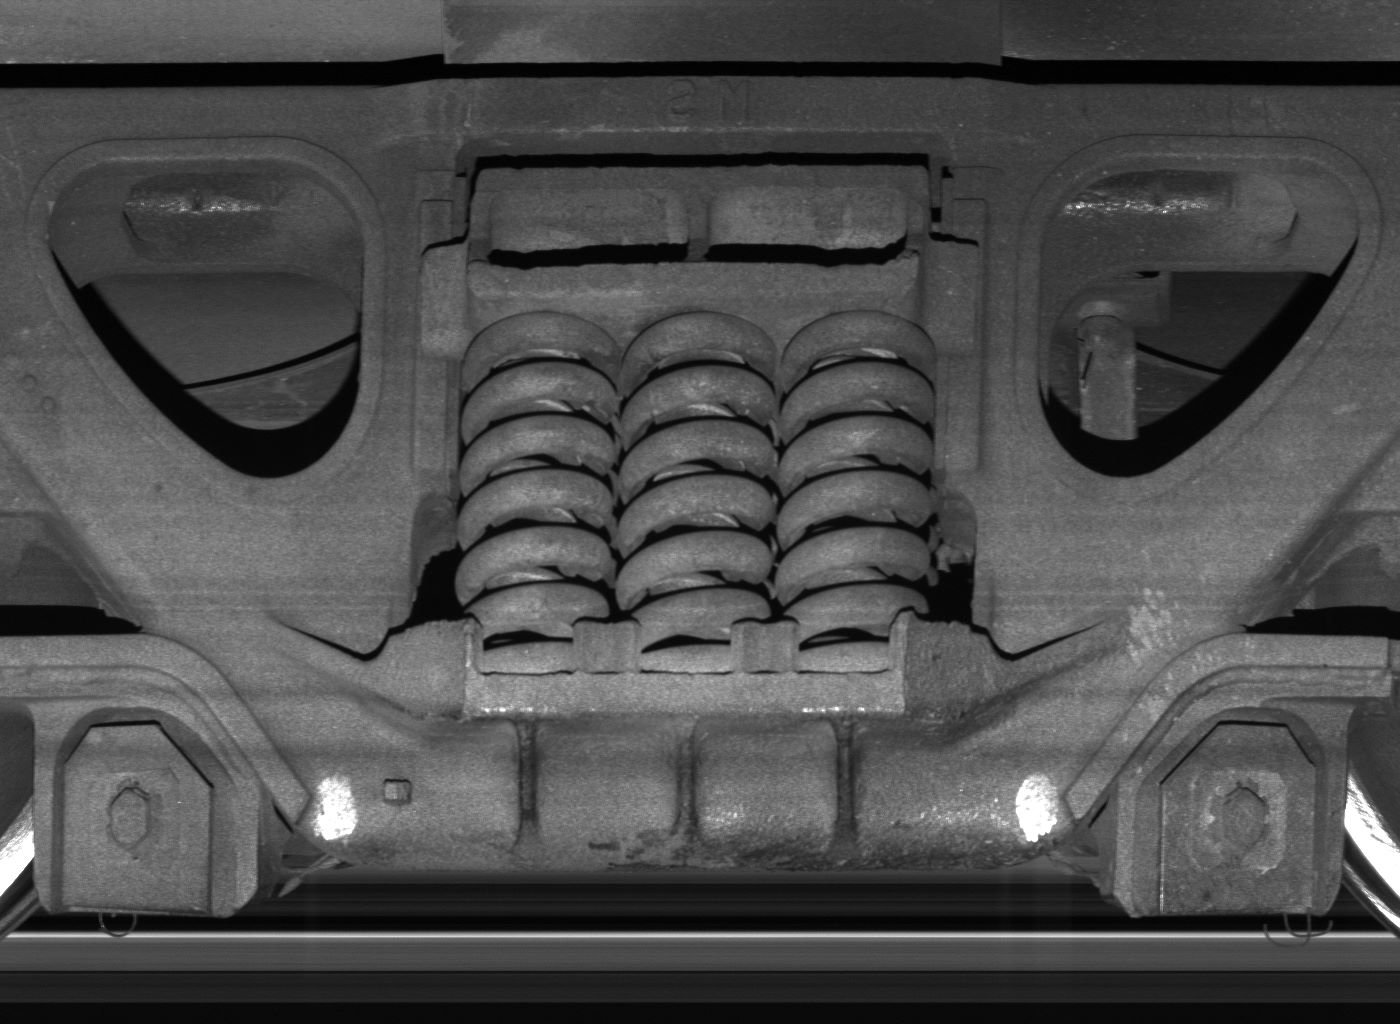normal: (1116, 708, 1347, 917), (32, 709, 257, 919)
